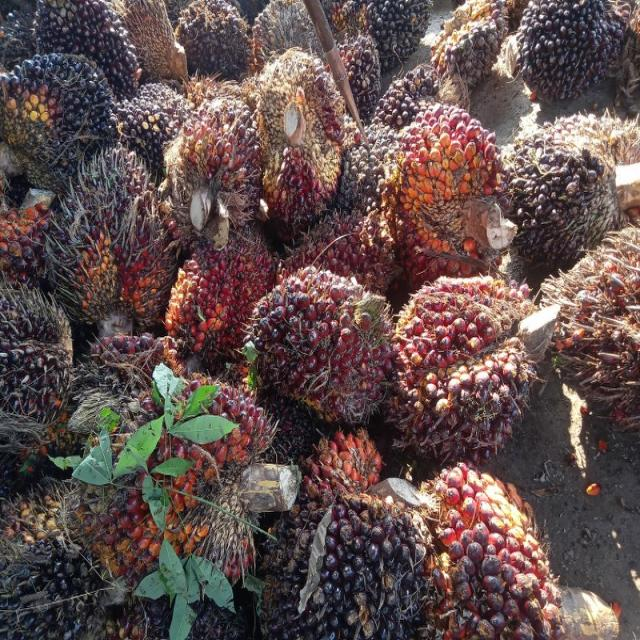fraksi 00: (252, 408, 449, 640), (486, 72, 640, 271), (0, 23, 143, 220), (40, 139, 181, 323), (496, 0, 640, 101), (110, 68, 218, 182), (421, 0, 522, 114), (157, 0, 269, 86)
fraksi 1: (380, 235, 540, 467), (218, 40, 370, 229), (241, 252, 385, 423), (140, 70, 273, 241)
fraksi 3: (73, 362, 292, 623), (165, 242, 278, 366)
fraksi 4: (384, 87, 520, 283)
